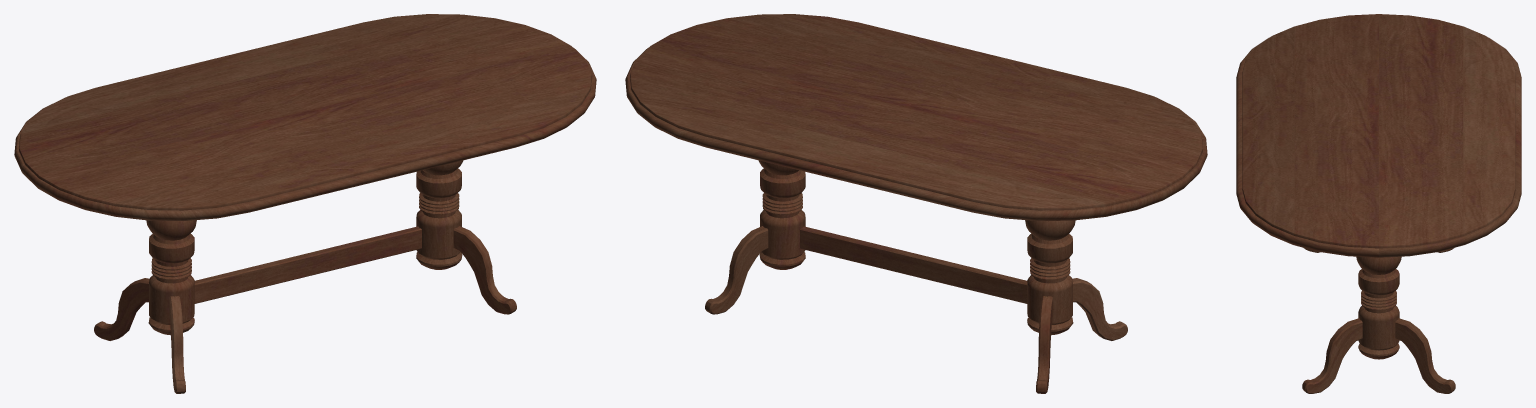
The model's file is table.glb.
3 views of the same model, side by side, from view 1: azimuth 30°, elevation 25°; view 2: azimuth 150°, elevation 25°; view 3: azimuth 270°, elevation 25° (orthographic). The views are drawn at different scales.
Visible parts, largest first — view 1: Dining table_0; view 2: Dining table_0; view 3: Dining table_0.
Boxes of the visible parts, x1,y1,x2,y2 form: Dining table_0: [14, 14, 596, 393]; Dining table_0: [625, 14, 1207, 393]; Dining table_0: [1236, 14, 1521, 393].
Size of the model in its own units: 2.11 by 0.7996 by 1.08.
Materials: 1 (1 with a texture image).
